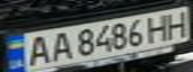4: (93, 21, 115, 53)
6: (124, 17, 151, 47)
8: (72, 26, 96, 57), (109, 20, 130, 51)
A: (18, 34, 54, 69), (45, 29, 75, 62)
H: (142, 11, 175, 43), (163, 8, 193, 39)
